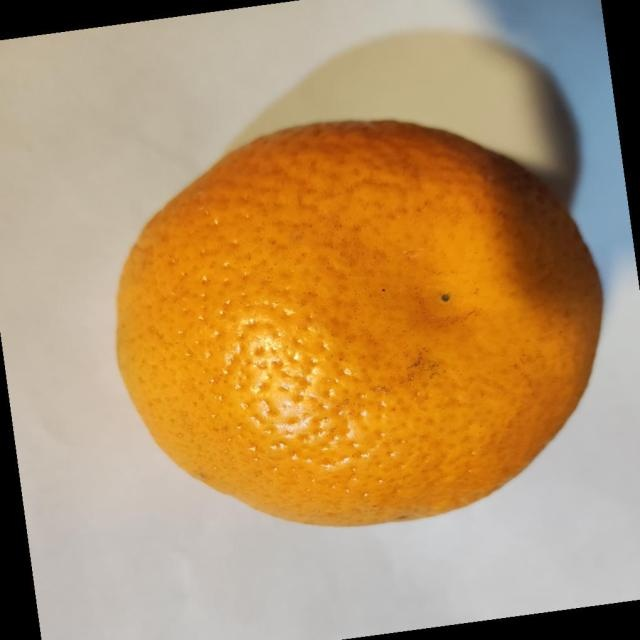agrume: (114, 116, 604, 528)
